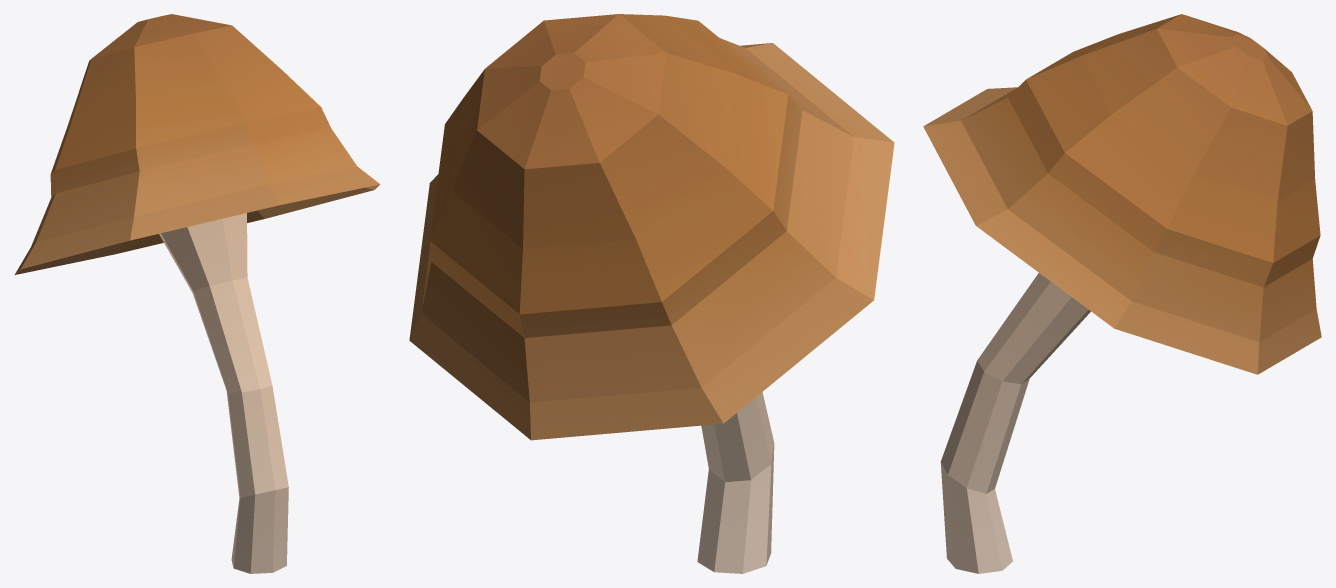
File: brownShroom2.fbx
The picture shows the model from 3 angles, left to right: view 1: azimuth 30°, elevation 25°; view 2: azimuth 150°, elevation 25°; view 3: azimuth 270°, elevation 25°; orthographic projection. The views are drawn at different scales.
Parts seen in each view (by area): view 1: mushroom1; view 2: mushroom1; view 3: mushroom1.
Part boxes in pixels (box(x1,y1,x2,y2)): mushroom1: box(15, 14, 380, 573); mushroom1: box(409, 14, 894, 573); mushroom1: box(923, 14, 1321, 573).
Size of the model in its own units: 557 by 722 by 485.
